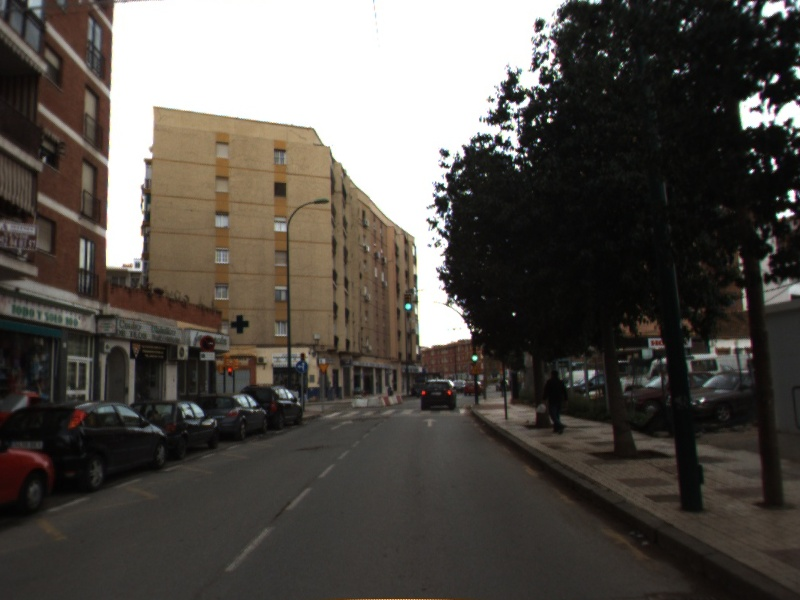STRAIGHT: (329, 418, 355, 432), (421, 416, 439, 428)
